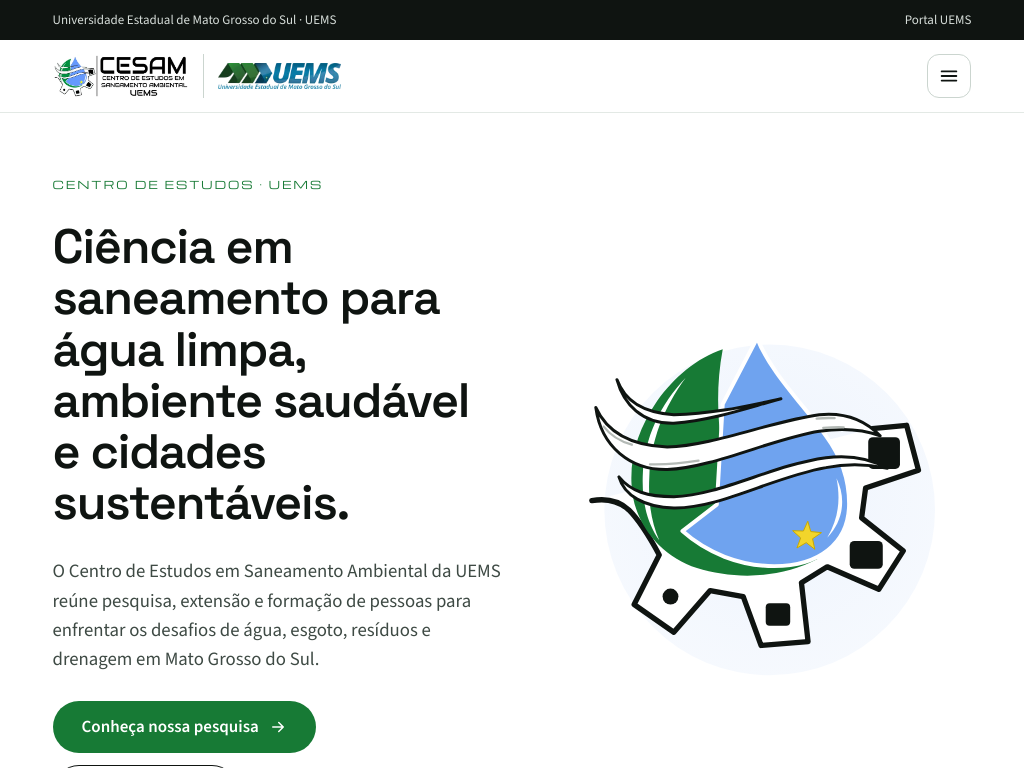
Test: Menu mobile › fecha ao escolher um item
The image size is (1024, 768).
Click the button named "Abrir menu".
click(950, 76)  # box [928,54,972,98]
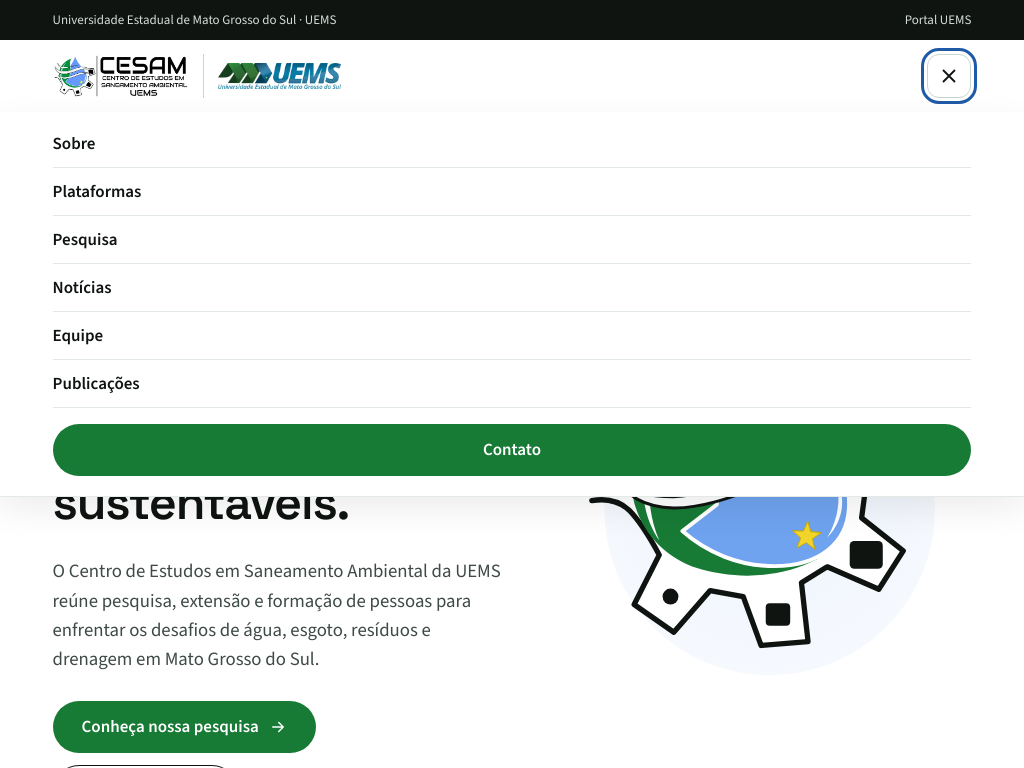
Click the link "Equipe".
click(78, 335)  # box [52,312,971,360]
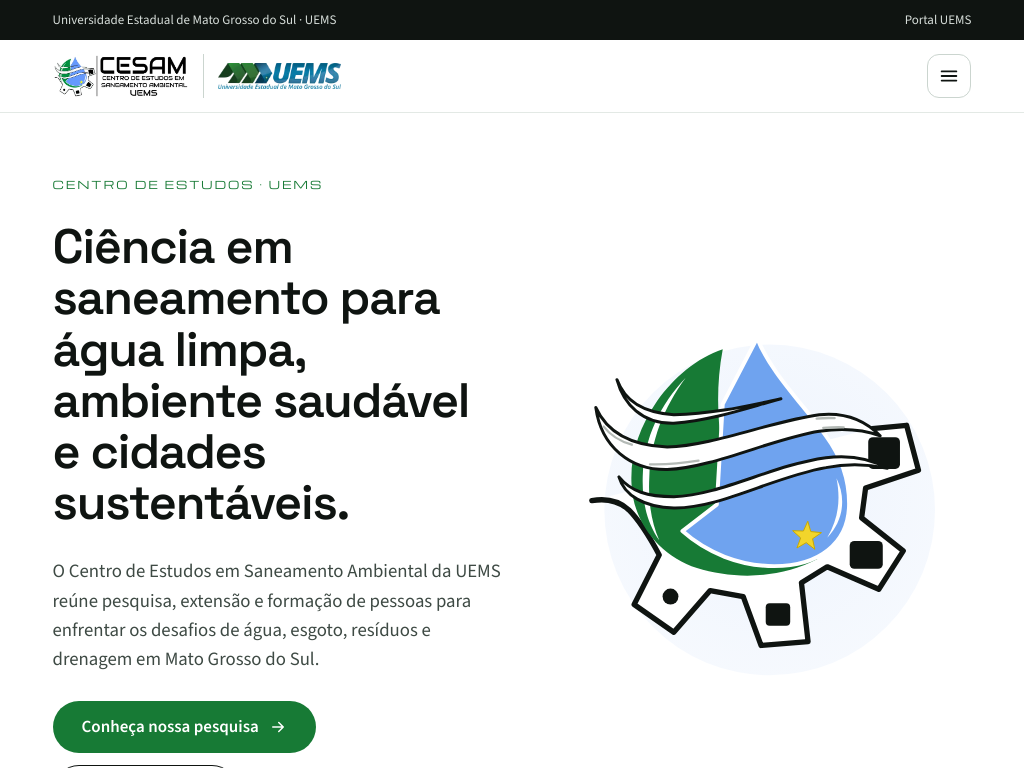
Check: the button named "Abrir menu" is collapsed, box [928,54,972,98]
